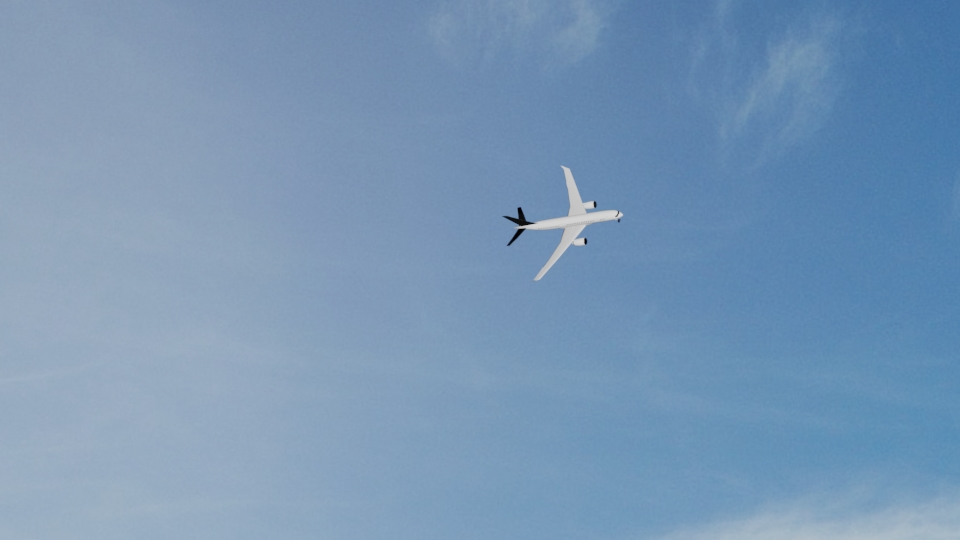plane: (502, 163, 627, 286)
